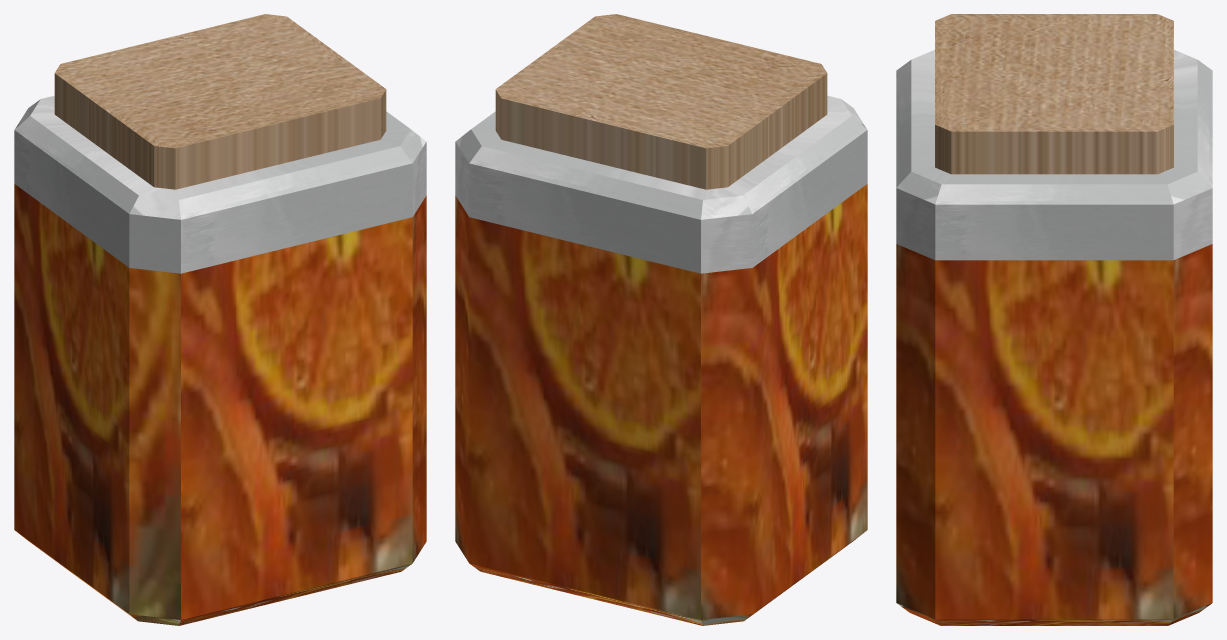
The model's file is jar2.FBX.
3 renders of one model, left to right at view 1: azimuth 30°, elevation 25°; view 2: azimuth 150°, elevation 25°; view 3: azimuth 270°, elevation 25°, orthographic. The views are drawn at different scales.
Parts seen in each view (by area): view 1: Box001, Object001, Object002; view 2: Box001, Object001, Object002; view 3: Box001, Object001, Object002.
Boxes of the visible parts, <box> form: Box001: <box>14,184,426,625</box>; Object001: <box>54,14,386,189</box>; Object002: <box>14,95,426,273</box>; Box001: <box>455,184,867,625</box>; Object001: <box>495,14,827,189</box>; Object002: <box>455,95,867,273</box>; Box001: <box>896,244,1212,625</box>; Object001: <box>935,14,1173,174</box>; Object002: <box>896,50,1212,260</box>.
Bounding box in the file's own units: 43.7 × 65.57 × 38.9.
Materials: 3 (3 with a texture image).
